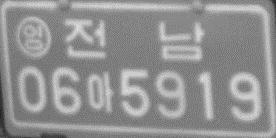0: (16, 64, 47, 114)
1: (191, 70, 223, 121)
5: (119, 67, 151, 118)
6: (49, 65, 82, 115)
9: (227, 71, 262, 121), (154, 69, 187, 120)
아: (85, 70, 114, 114)
영: (15, 15, 52, 59)
전남_D: (63, 17, 204, 62)
